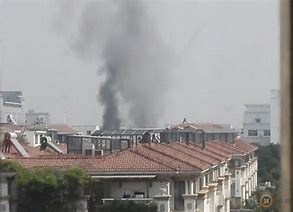smoke: (86, 42, 131, 128)
